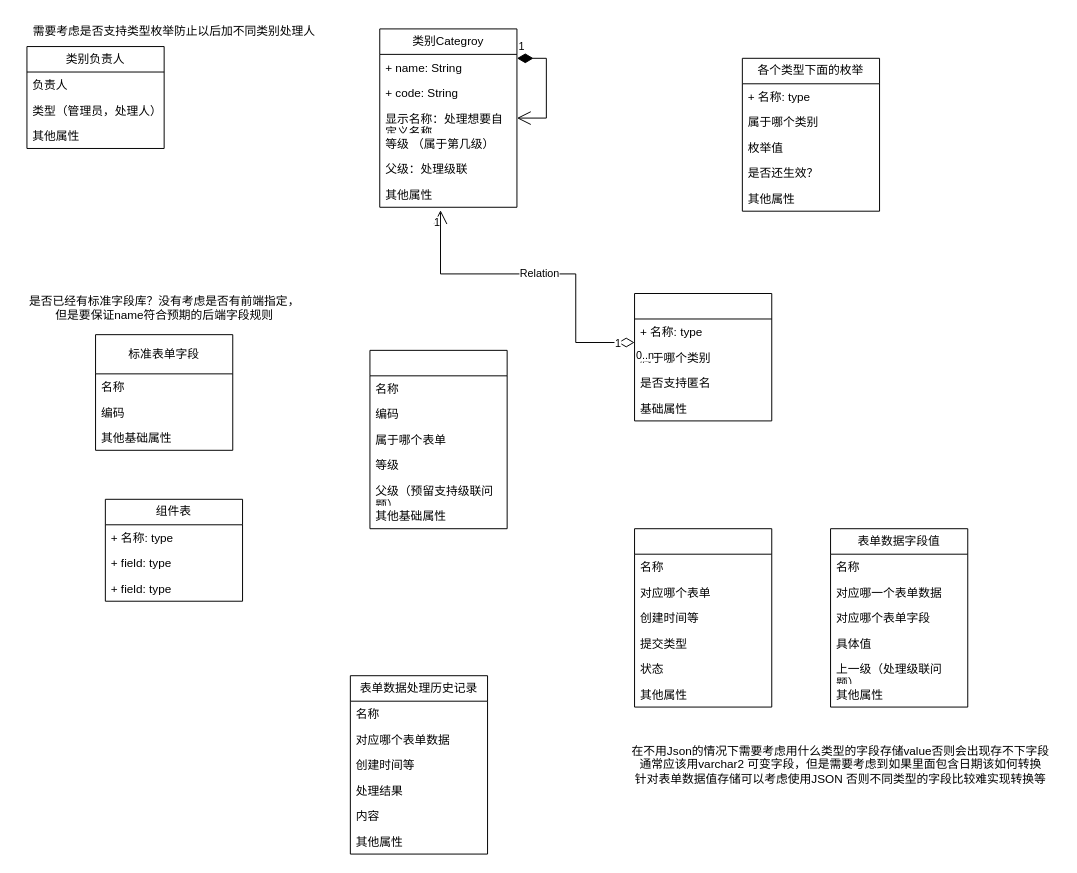
This 1077x873 diagram has some shape labels left out. The box of each missing label's shape, as (x1, y1, x2, y2) in pixels:
form表单: (634, 293, 772, 421)
表单字段: (369, 349, 507, 529)
表单数据: (634, 528, 772, 707)
